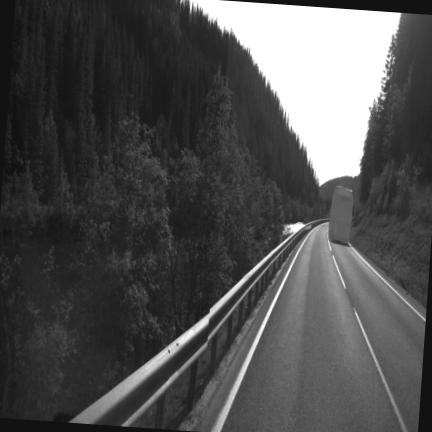Road: (203, 224, 425, 431)
